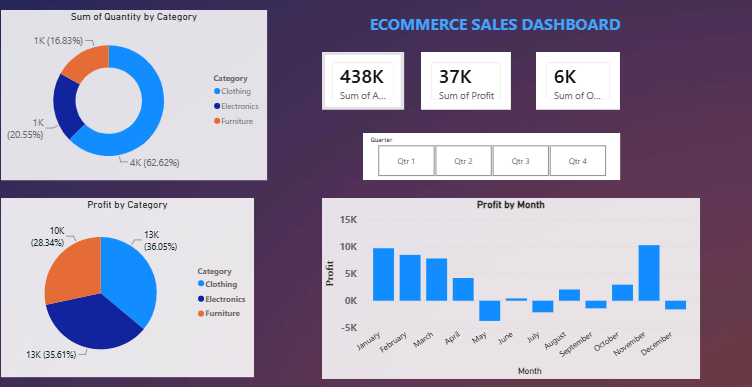

Layout of this report page (visuals, bound fields, positions):
{"tool":"powerbi","page":{"name":"Page 1","canvas":[1280,720],"ordinal":0},"visuals":[{"type":"pieChart","title":"Profit by Category","fields":{"Category":["Details.Category"],"Y":["Sum(Details.Profit)"]},"box":[11.8,389.7,425,300.7],"z":0},{"type":"clusteredColumnChart","title":"Profit by Month","fields":{"Y":["Sum(Details.Profit)"],"Category":["Orders.Order Date.Variation.Date Hierarchy.Month"]},"box":[551,389.7,635,304],"z":1000},{"type":"donutChart","fields":{"Category":["Details.Category"],"Y":["Sum(Details.Quantity)"]},"box":[11.8,73.9,446.8,285.6],"z":2000},{"type":"textbox","box":[524,74,635,286],"z":3000},{"type":"cardVisual","fields":{"Data":["Sum(Details.Amount)"]},"box":[551,144.5,137.7,97.4],"z":4000},{"type":"cardVisual","fields":{"Data":["Sum(Details.Profit)"]},"box":[717.3,144.5,151.2,97.4],"z":5000},{"type":"cardVisual","fields":{"Data":["Sum(Details.Quantity)"]},"box":[910.4,144.5,141.1,97.4],"z":6000},{"type":"slicer","fields":{"Values":["Orders.Order Date.Variation.Date Hierarchy.Quarter"]},"box":[619.8,280.5,431.7,79],"z":6001}]}

Visuals, with their boxes on the page's 1280x720 design canvas (x1, y1, x2, y2). These are canvas units, not pixel positions in the 752x387 screenshot, which may show the page scaled, cropped or inside an application window:
"Profit by Category" pieChart: 12 390 437 690
"Profit by Month" clusteredColumnChart: 551 390 1186 694
donutChart - Details.Category x Sum(Details.Quantity): 12 74 459 360
textbox: 524 74 1159 360
cardVisual - Sum(Details.Amount): 551 144 689 242
cardVisual - Sum(Details.Profit): 717 144 868 242
cardVisual - Sum(Details.Quantity): 910 144 1052 242
slicer - Orders.Order Date.Variation.Date Hierarchy.Quarter: 620 280 1052 360
